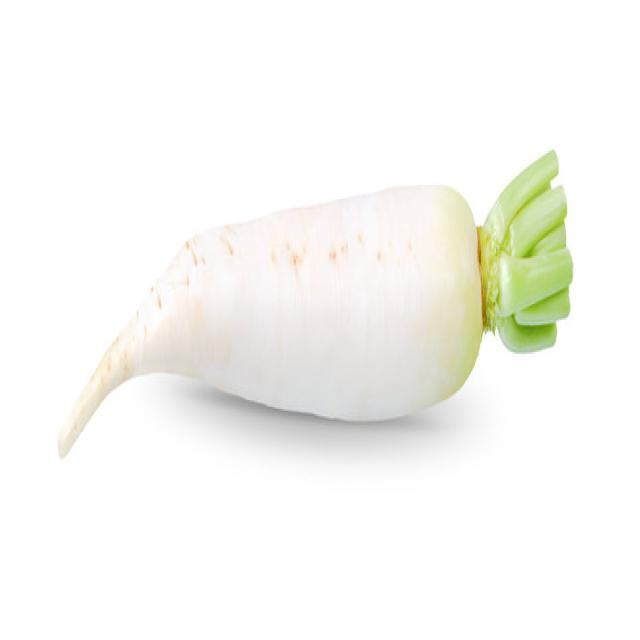Radish: (56, 146, 572, 458)
